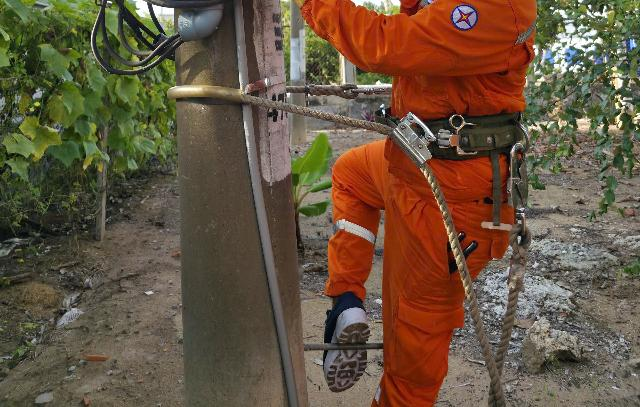harness: (358, 96, 541, 169)
shoes: (301, 272, 380, 393)
